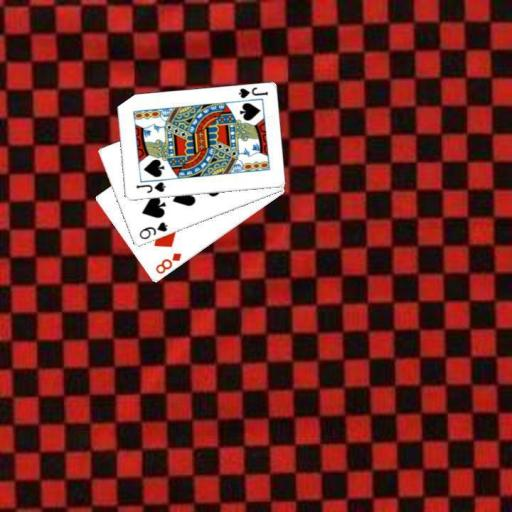card-corner: (152, 250, 183, 276), (136, 219, 169, 241), (133, 179, 167, 195), (235, 84, 269, 100)
